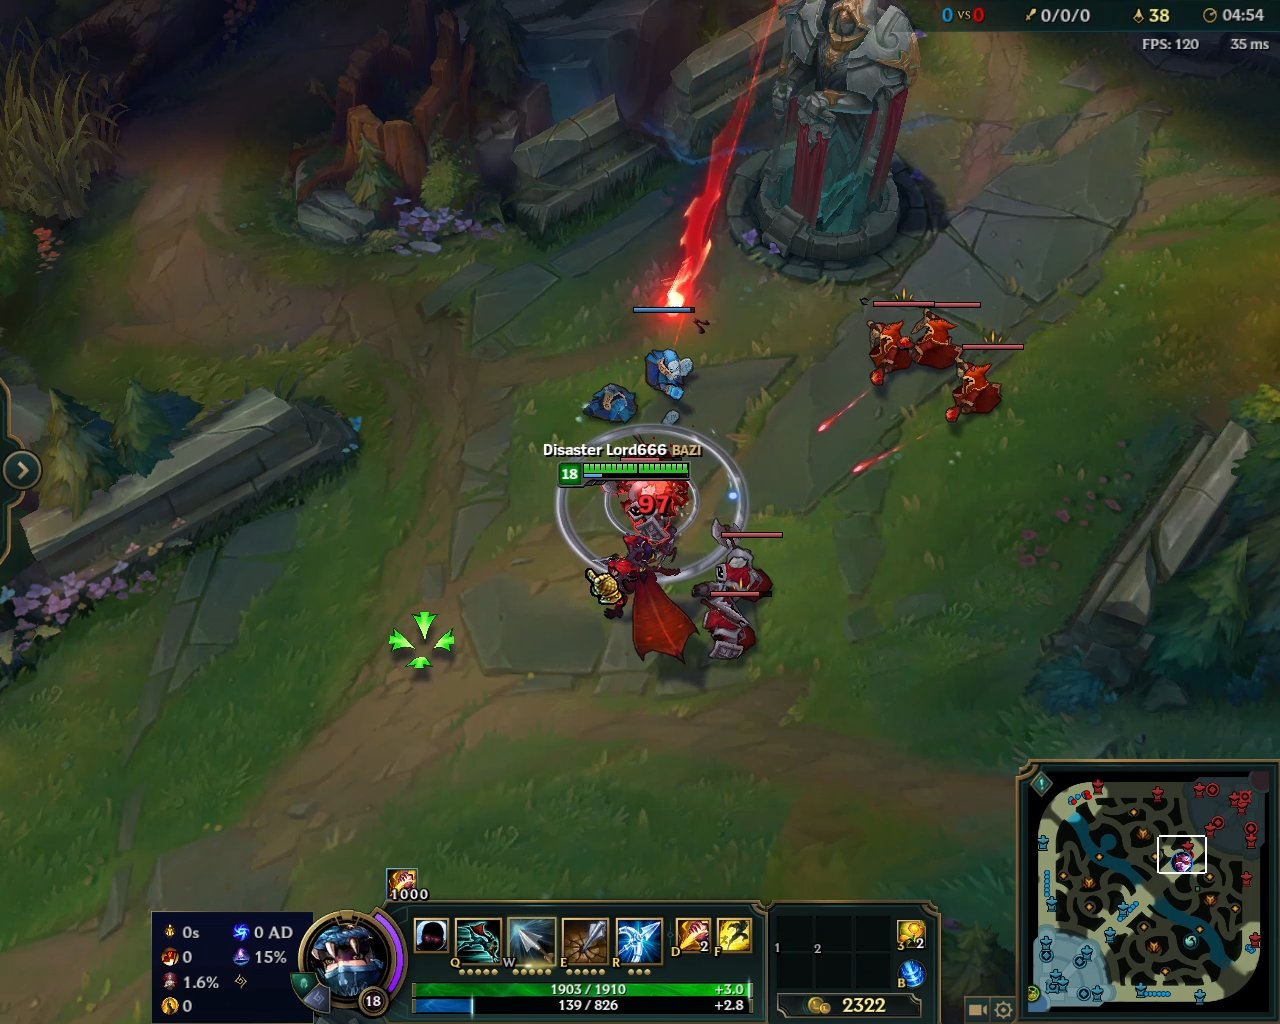EnemyMinion: (940, 335, 1022, 422), (709, 513, 786, 598), (700, 585, 775, 662), (867, 298, 929, 389), (902, 300, 983, 367)
Tower: (743, 1, 925, 282)
Vayne: (596, 533, 690, 678)
